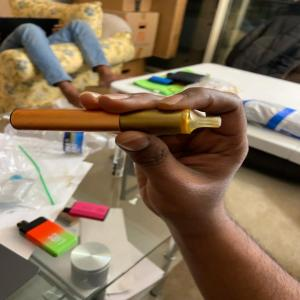Golden-E-Ciggirate: (5, 105, 226, 140)
